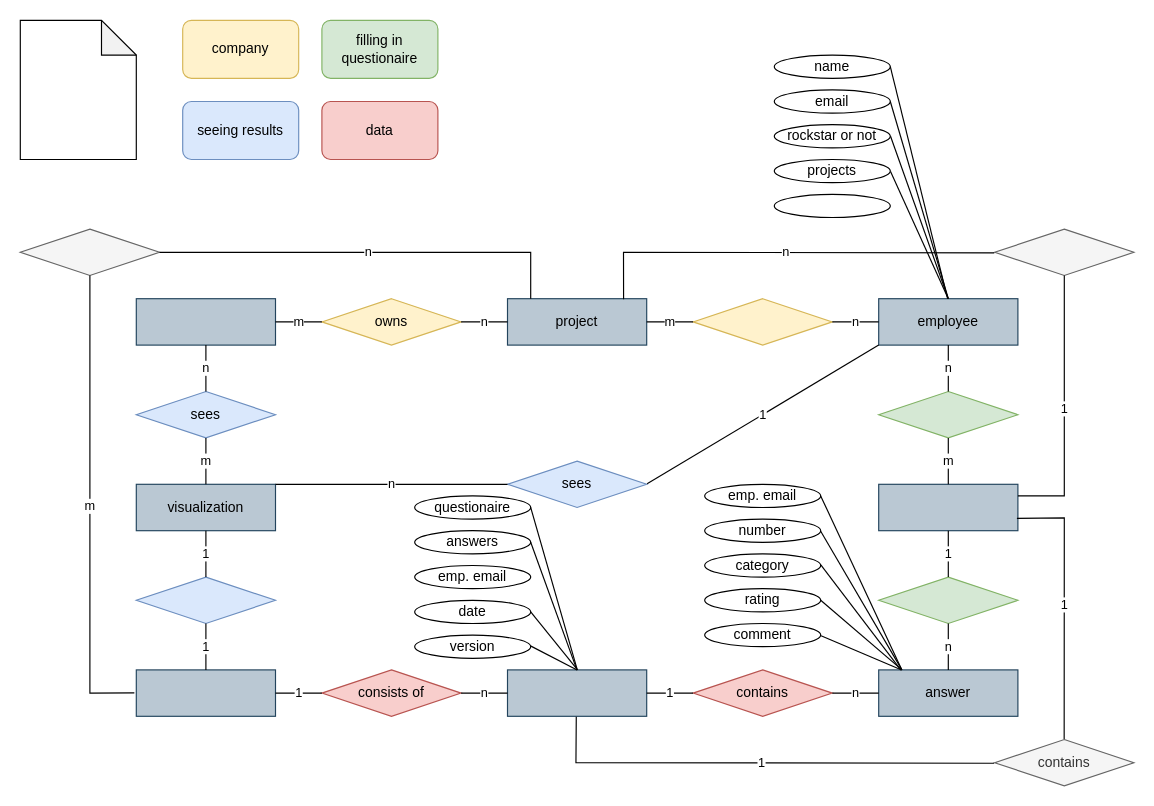
This 1154x806 diagram has some shape labels left out. The centre of each missing label's shape, as x and y in pixels:
collection filled out questionnaires: (205,692)
employs: (762,321)
filled out questionnaire: (576,692)
fills out: (948,414)
generally best to read from left to right and from top to bottom: (77,89)
has: (89,252)
is assigned a: (1064,252)
made of: (205,600)
manager: (205,321)
questionnnaire: (948,507)
results in: (948,600)
